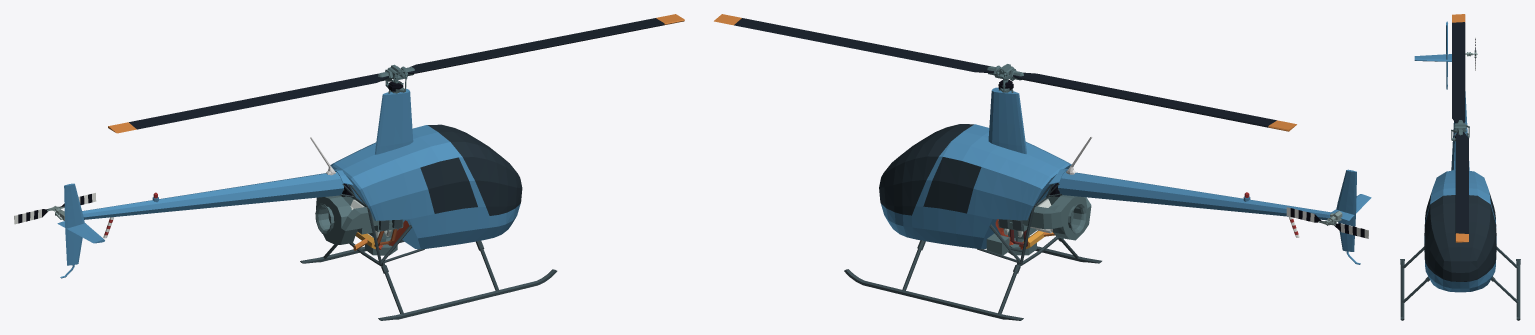
The model's file is helicopter0_model_test2.dae.
3 renders of one model, left to right at view 1: azimuth 30°, elevation 25°; view 2: azimuth 150°, elevation 25°; view 3: azimuth 270°, elevation 25°, orthographic. The views are drawn at different scales.
Parts seen in each view (by area): view 1: HeliMainBody, HeliTail, main_rotor_blade2, main_rotor_blade1, Cube.040, RotorMast, TailVerStab, Cylinder2.001, tail_rotor_blades; view 2: HeliMainBody, HeliTail, main_rotor_blade2, main_rotor_blade1, Cube.040, RotorMast, TailVerStab, Cylinder2, tail_rotor_blades; view 3: HeliMainBody, main_rotor_blade1, main_rotor_blade2, Cylinder2.001, Cylinder2, TailHorStab1, HeliTail, TailVerStab, Cylinder1.001, Cylinder1.
Part boxes in pixels (x1,y1,x2,y2): HeliMainBody: (330,124,522,249); HeliTail: (82,171,343,219); main_rotor_blade2: (108,73,388,133); main_rotor_blade1: (407,14,684,73); Cube.040: (315,195,391,244); RotorMast: (375,88,413,154); TailVerStab: (64,183,84,265); Cylinder2.001: (378,269,557,320); tail_rotor_blades: (14,193,96,224); HeliMainBody: (879,124,1073,248); HeliTail: (1058,171,1332,220); main_rotor_blade2: (1013,72,1296,131); main_rotor_blade1: (714,14,993,73); Cube.040: (1010,195,1091,240); RotorMast: (988,87,1026,154); TailVerStab: (1336,169,1356,251); Cylinder2: (844,269,1023,320); tail_rotor_blades: (1286,207,1368,238); HeliMainBody: (1424,170,1496,292); main_rotor_blade1: (1455,131,1468,242); main_rotor_blade2: (1452,14,1465,123); Cylinder2.001: (1400,259,1404,320); Cylinder2: (1516,259,1520,320); TailHorStab1: (1414,54,1451,61); HeliTail: (1451,91,1469,170); TailVerStab: (1446,21,1447,86); Cylinder1.001: (1402,276,1429,302); Cylinder1: (1491,276,1518,302).
Size of the model in its own units: 9.76 by 2.09 by 3.17.
